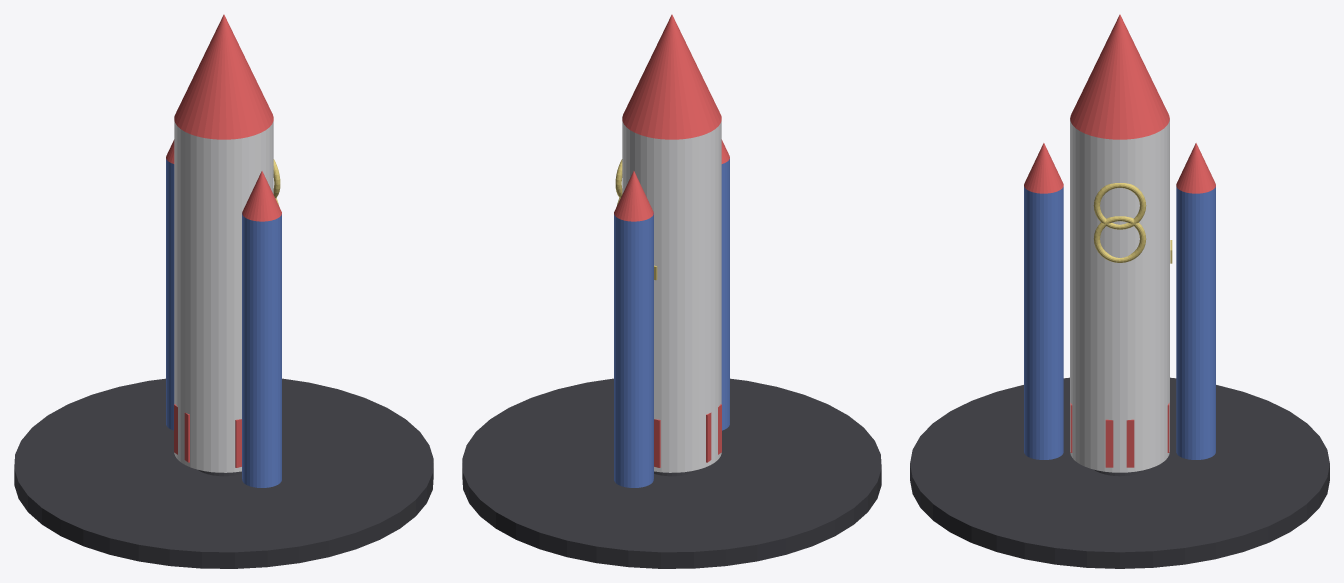
Rendered from Rocket_MoonShip_Lego.fbx.
3 views of the same model, side by side, from view 1: azimuth 30°, elevation 25°; view 2: azimuth 150°, elevation 25°; view 3: azimuth 270°, elevation 25° (orthographic).
Visible parts, largest first — view 1: LaunchPad, Rocket_Body, Rocket_Booster_R, Rocket_Nose, Rocket_Booster_L, Rocket_BoosterTip_R; view 2: LaunchPad, Rocket_Body, Rocket_Booster_L, Rocket_Nose, Rocket_Booster_R, Rocket_BoosterTip_L; view 3: LaunchPad, Rocket_Body, Rocket_Booster_L, Rocket_Booster_R, Rocket_Nose, Rocket_BoosterTip_L, Rocket_BoosterTip_R, Rocket_Fin_Left, Rocket_WindowRing_0, Rocket_WindowRing_1.
Part boxes in pixels (box(x1,y1,x2,y2)): LaunchPad: box(14, 378, 433, 568); Rocket_Body: box(174, 121, 273, 472); Rocket_Booster_R: box(242, 213, 281, 487); Rocket_Nose: box(174, 14, 273, 139); Rocket_Booster_L: box(166, 159, 174, 430); Rocket_BoosterTip_R: box(242, 171, 281, 221); LaunchPad: box(462, 378, 881, 568); Rocket_Body: box(622, 121, 721, 472); Rocket_Booster_L: box(614, 213, 653, 487); Rocket_Nose: box(622, 14, 721, 139); Rocket_Booster_R: box(721, 159, 729, 430); Rocket_BoosterTip_L: box(614, 171, 653, 221); LaunchPad: box(910, 377, 1329, 568); Rocket_Body: box(1070, 119, 1169, 472); Rocket_Booster_L: box(1176, 186, 1215, 459); Rocket_Booster_R: box(1024, 186, 1063, 459); Rocket_Nose: box(1070, 14, 1169, 139); Rocket_BoosterTip_L: box(1176, 143, 1215, 193); Rocket_BoosterTip_R: box(1024, 143, 1063, 193); Rocket_Fin_Left: box(1105, 419, 1134, 467); Rocket_WindowRing_0: box(1093, 183, 1146, 229); Rocket_WindowRing_1: box(1093, 216, 1146, 262).
Size of what is drawn, in the model's own units: 8 by 8 by 11.
